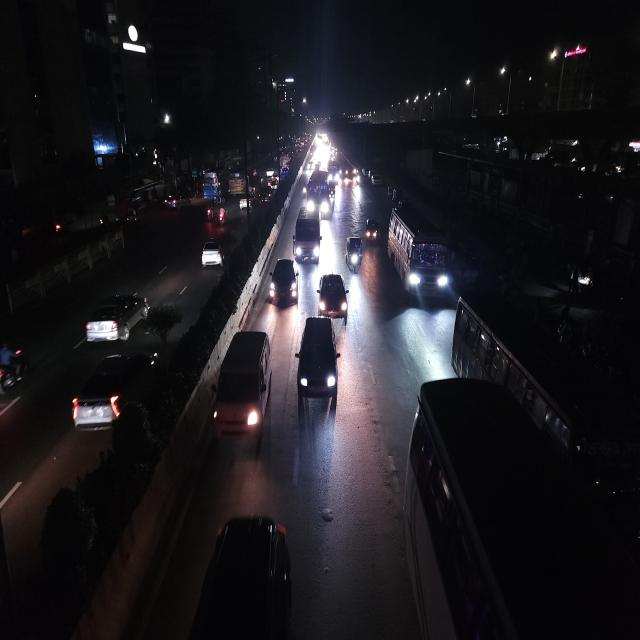bus: (406, 371, 638, 640), (450, 280, 640, 497), (385, 200, 453, 302), (291, 207, 324, 265), (304, 169, 331, 221), (199, 168, 221, 198), (226, 167, 246, 195), (327, 162, 340, 187)
car: (68, 344, 162, 437), (213, 326, 273, 453), (295, 313, 340, 411), (84, 288, 152, 343), (266, 254, 302, 308), (316, 269, 350, 322), (199, 235, 227, 273), (259, 183, 273, 204), (370, 171, 380, 187)
cng: (182, 512, 296, 640), (344, 232, 363, 274), (364, 215, 379, 245), (238, 192, 252, 215)
motorcycle: (0, 342, 29, 399), (208, 193, 226, 226), (124, 205, 140, 224), (216, 203, 228, 228)
